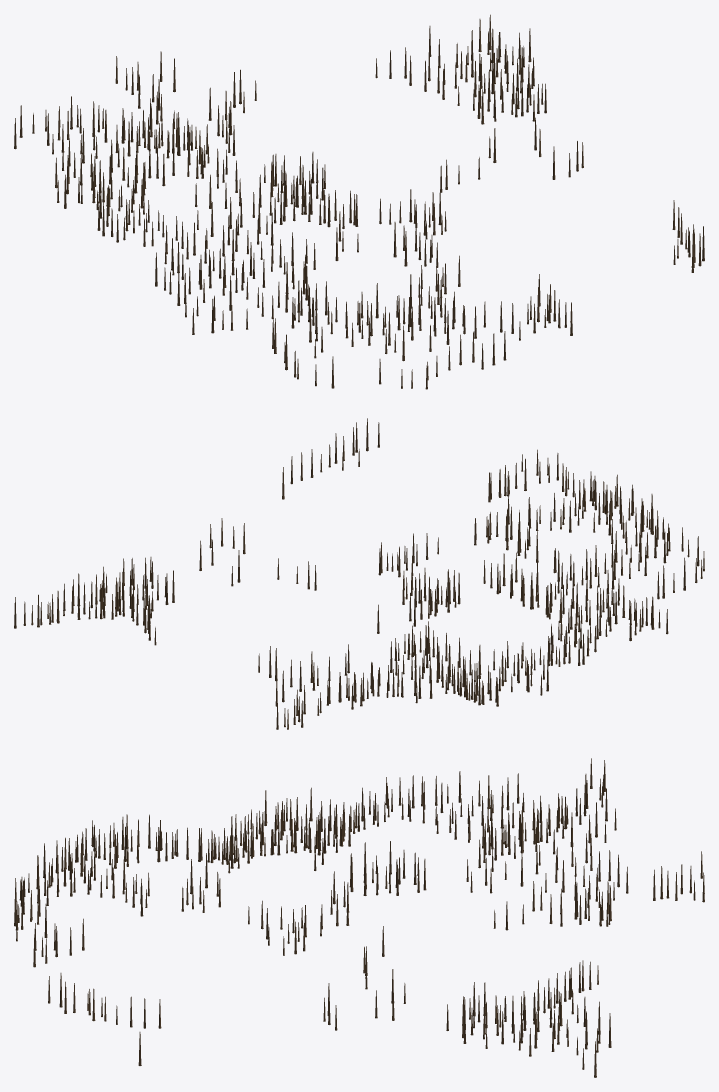
The model's file is pine_trunks.glb.
3 views of the same model, one above another, from view 1: azimuth 30°, elevation 25°; view 2: azimuth 150°, elevation 25°; view 3: azimuth 270°, elevation 25° (orthographic). The views are drawn at different scales.
Visible parts, largest first — view 1: pine_trunks; view 2: pine_trunks; view 3: pine_trunks.
Part boxes in pixels (x1,y1,x2,y2): pine_trunks: [14, 14, 704, 389]; pine_trunks: [14, 418, 704, 729]; pine_trunks: [14, 758, 704, 1077].
Size of the model in its own units: 214 by 45.56 by 249.
1 material, 1 textured.
